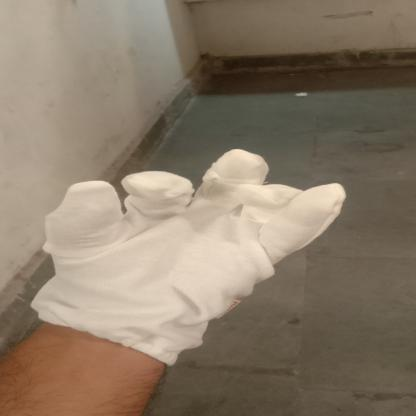gloved_hand: (29, 147, 352, 370)
